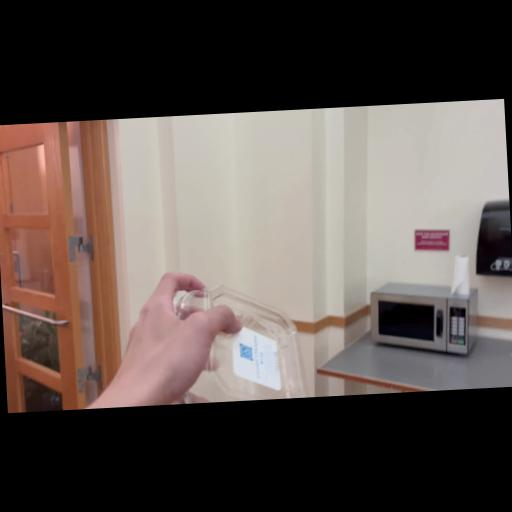small_plastic_container: (172, 280, 309, 404)
